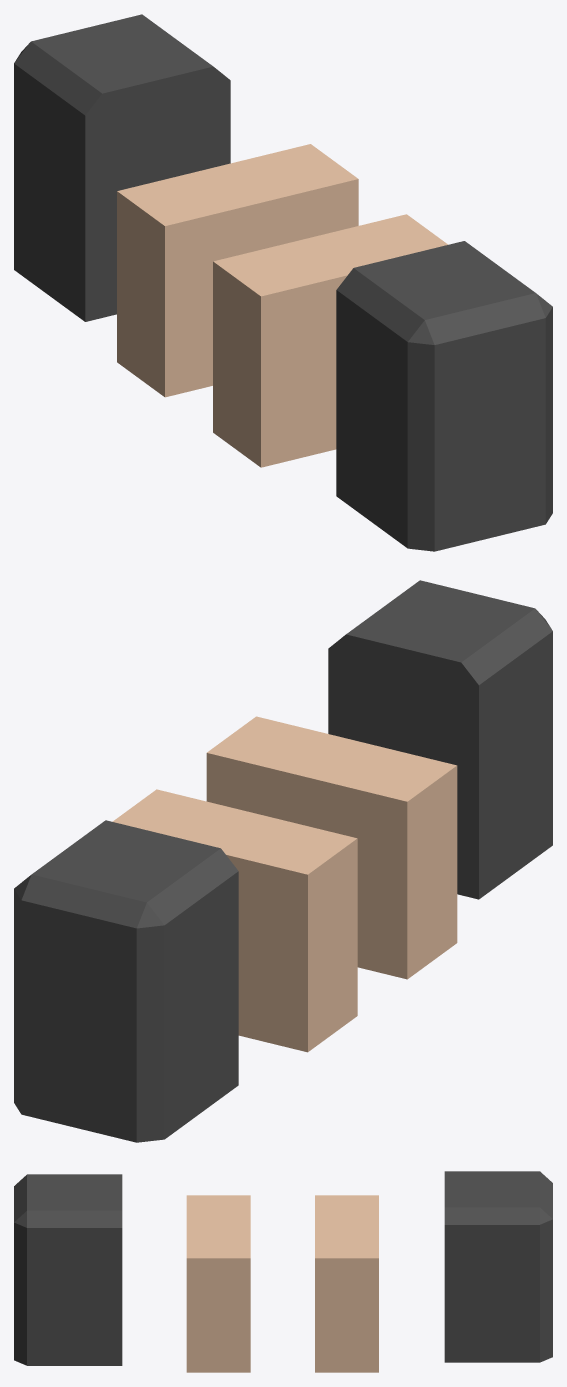
The model's file is USB7.fbx.
The picture shows the model from 3 angles, top to bottom: view 1: azimuth 30°, elevation 25°; view 2: azimuth 150°, elevation 25°; view 3: azimuth 270°, elevation 25°; orthographic projection. The views are drawn at different scales.
Parts seen in each view (by area): view 1: USB8; view 2: USB8; view 3: USB8.
Part boxes in pixels (<box>): USB8: <box>14,14,552,551</box>; USB8: <box>14,580,552,1142</box>; USB8: <box>14,1171,552,1372</box>.
Bounding box in the file's own units: 140 × 155 × 507.
